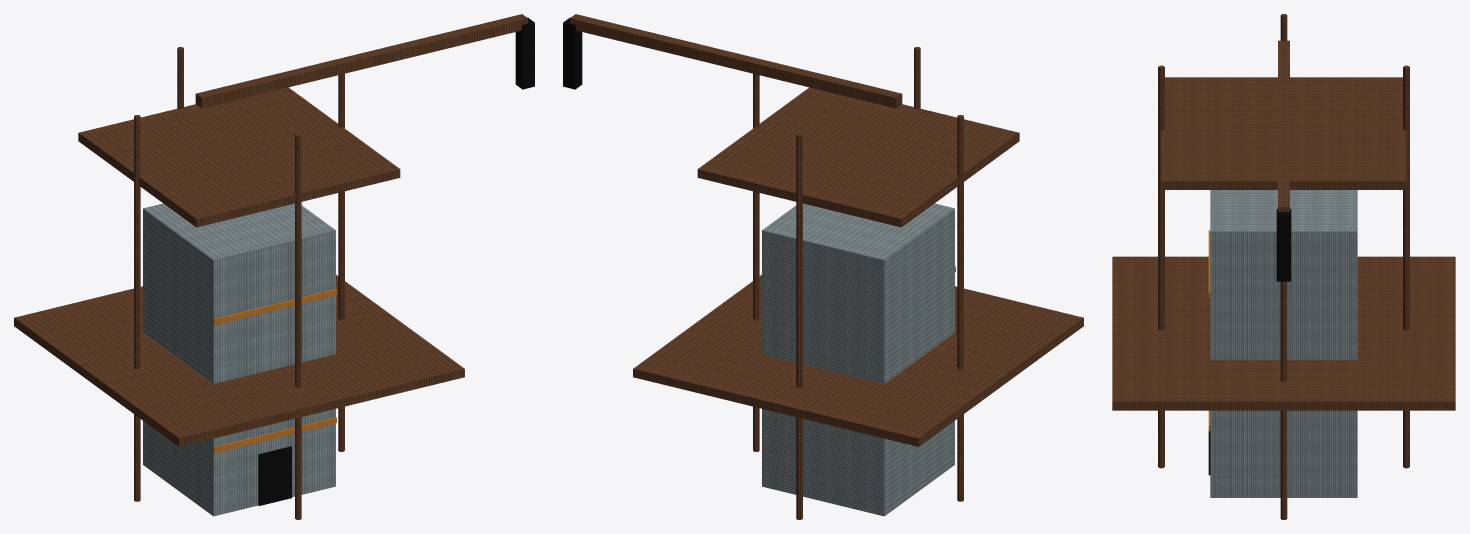
Rendered from drain_tower_01.glb.
3 views of the same model, side by side, from view 1: azimuth 30°, elevation 25°; view 2: azimuth 150°, elevation 25°; view 3: azimuth 270°, elevation 25° (orthographic). The views are drawn at different scales.
Parts seen in each view (by area): view 1: drain_tower_01; view 2: drain_tower_01; view 3: drain_tower_01.
Boxes of the visible parts, left/top/right/bottom form: drain_tower_01: left=14, top=14, right=534, bottom=519; drain_tower_01: left=563, top=14, right=1083, bottom=519; drain_tower_01: left=1112, top=14, right=1455, bottom=519.
Size of the model in its own units: 21.3 by 18.25 by 14.
4 materials, 4 textured.
